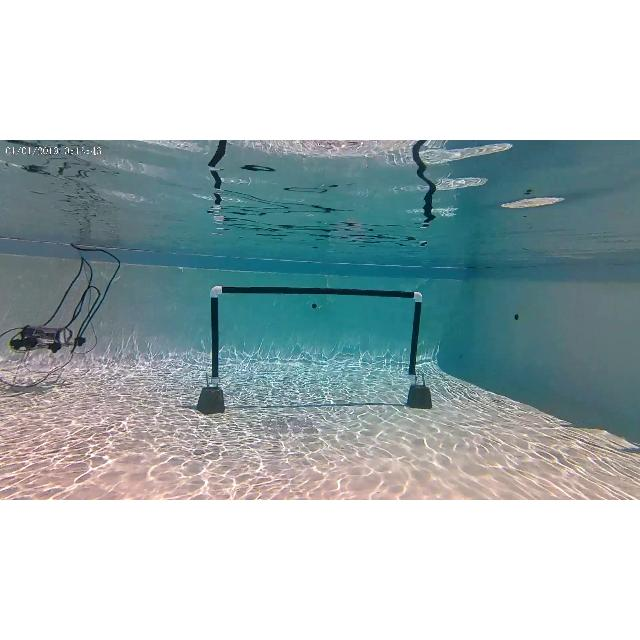prequal gate: (210, 286, 422, 388)
prequal gate leg l: (196, 286, 228, 414)
prequal gate leg r: (406, 286, 434, 410)
